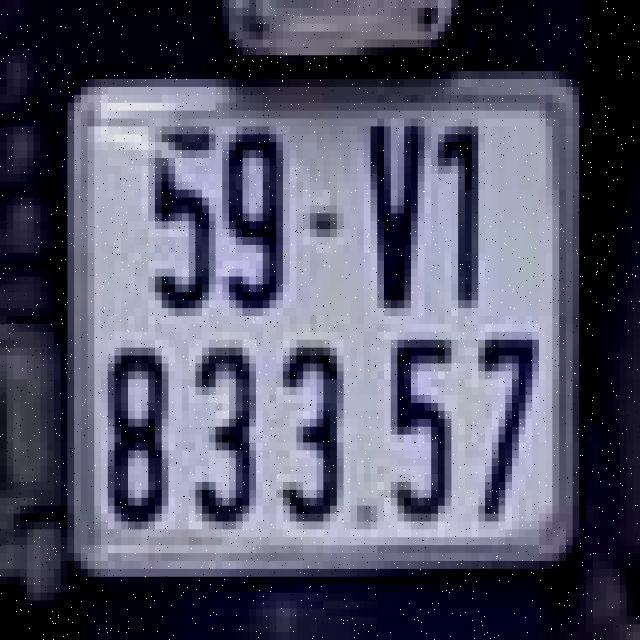1: (438, 114, 498, 328)
3: (182, 332, 263, 529), (273, 332, 347, 537)
5: (374, 328, 461, 525), (145, 115, 219, 320)
7: (478, 328, 546, 533)
8: (101, 336, 175, 533)
9: (219, 115, 300, 312)
V: (350, 107, 431, 320)
